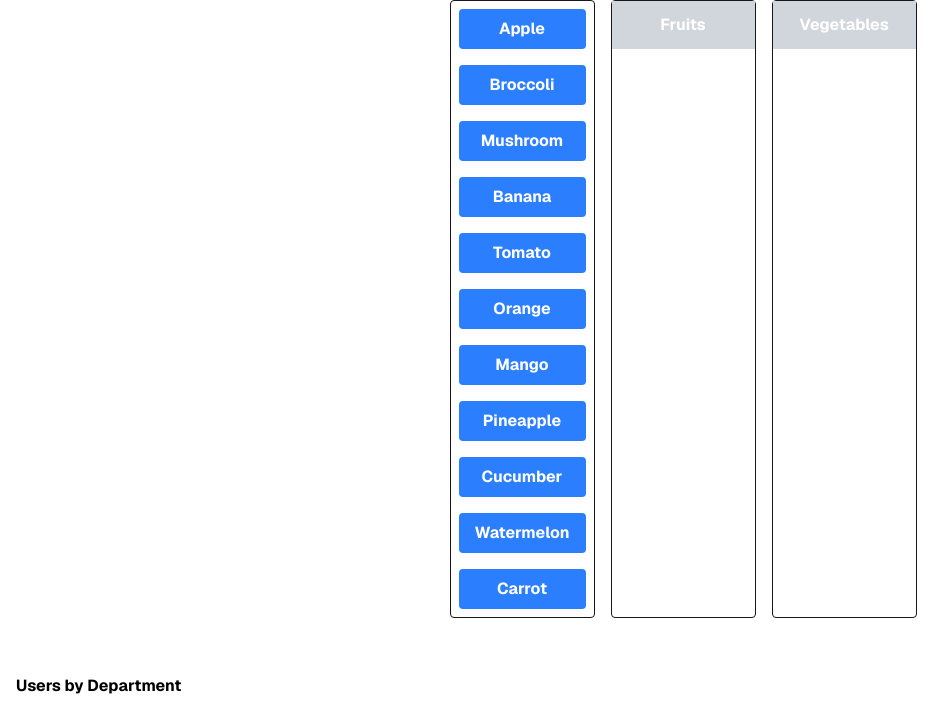
it: Home (page) › moves a fruit into the Fruits column when its button is clicked
Click the button "Apple" at [522, 29], box [458, 9, 586, 49]
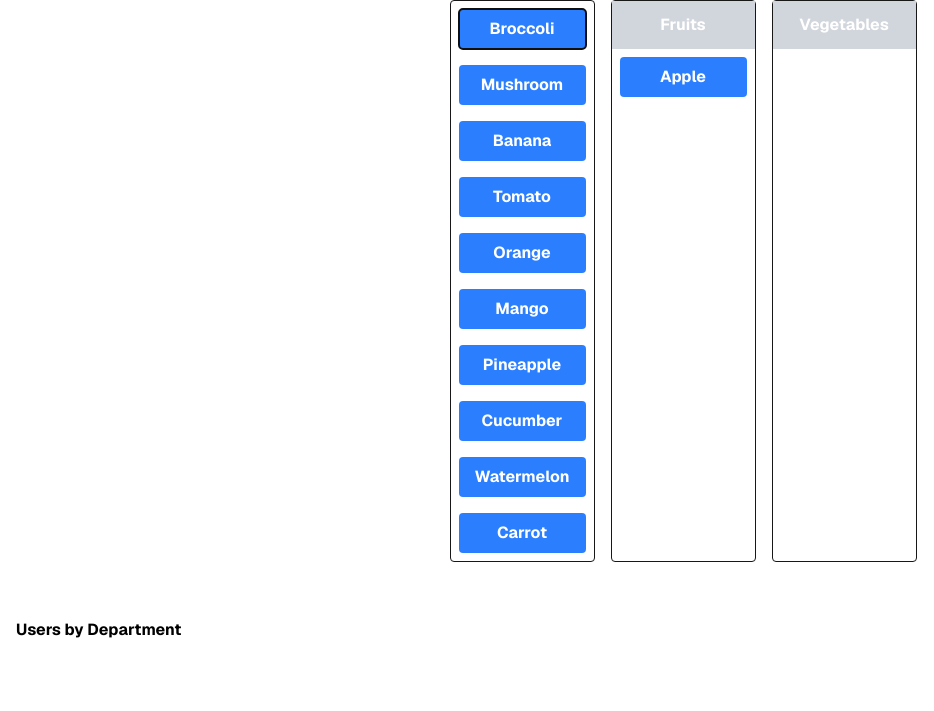
expect the button "Apple" is shown: met, box [620, 57, 746, 97]
